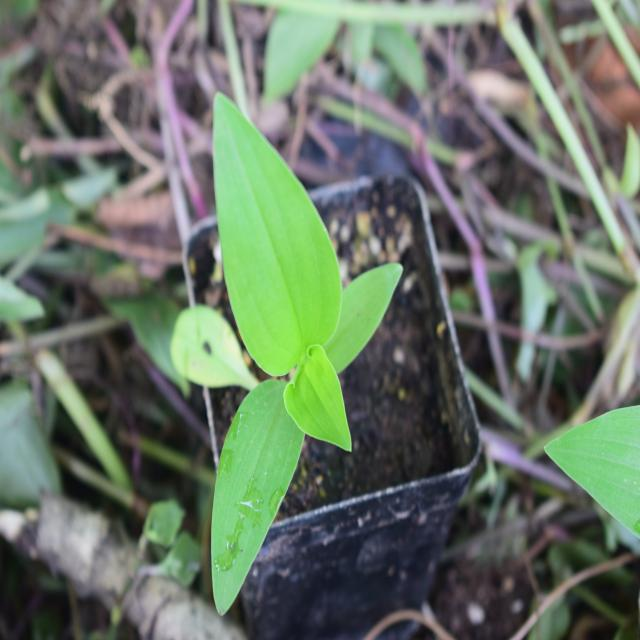Common Dayflower: (177, 74, 362, 592)
